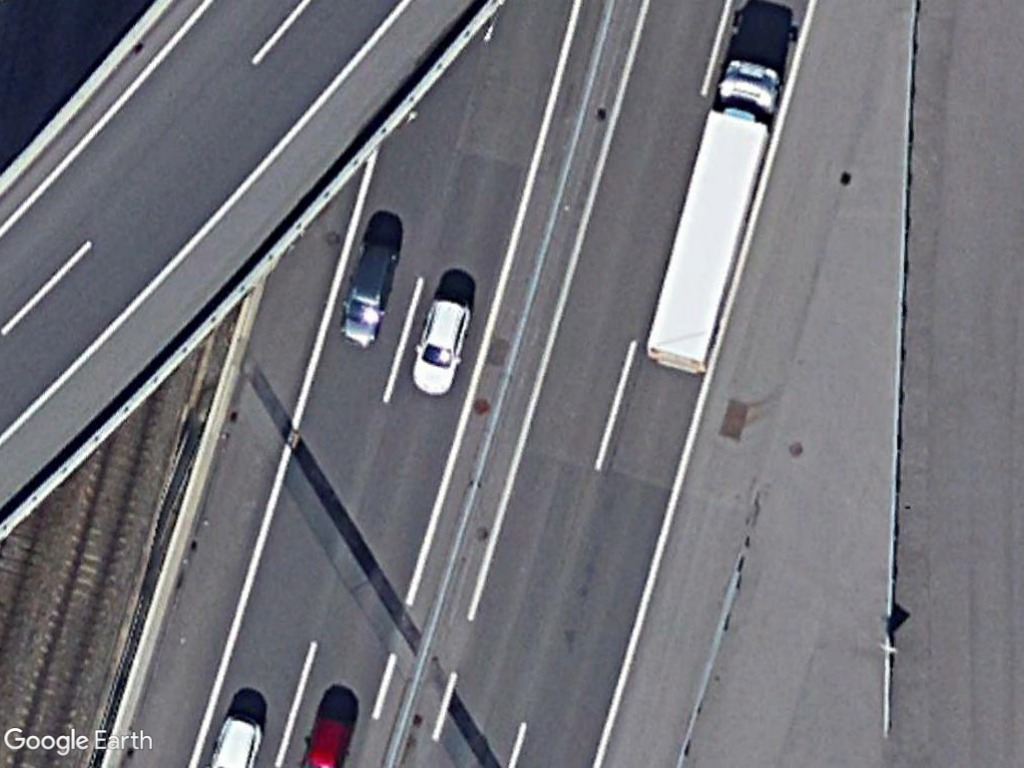car: (340, 238, 400, 348), (410, 293, 473, 396)
longvehicle: (645, 55, 788, 374)
